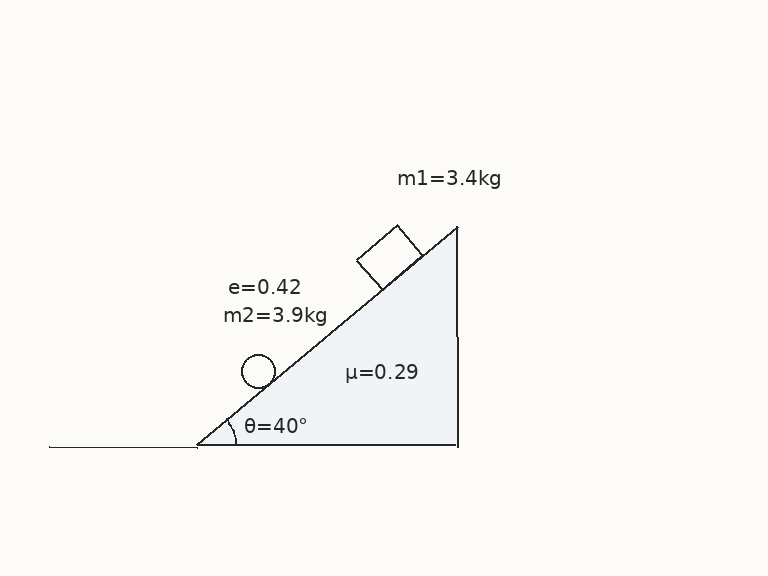ball: (239, 352, 277, 390)
block: (354, 223, 424, 292)
ramp: (194, 224, 459, 447)
